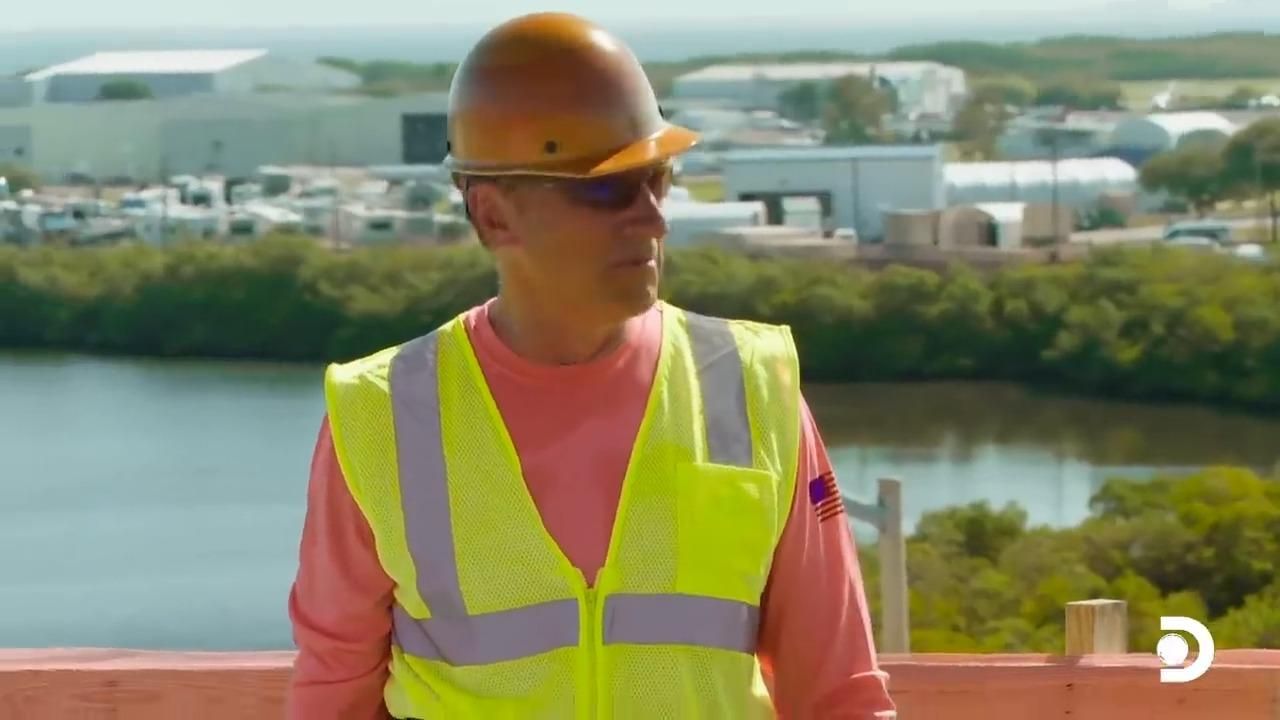Helmet: (442, 10, 701, 179)
Person: (284, 10, 898, 718)
Safety Vest: (366, 345, 795, 710)
